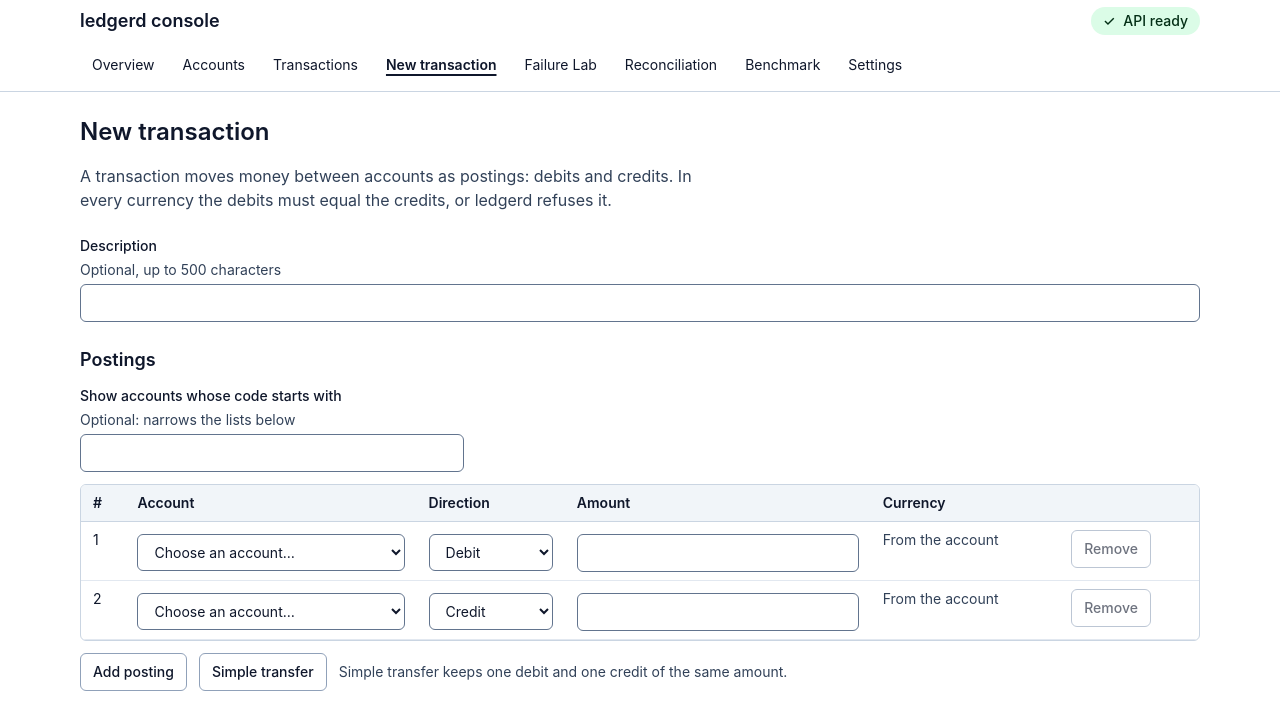
it: sending the same request again (R7.2, R7.3) › says honestly when it was NOT a replay (the key was forgotten), and that money moved again
Check: the heading "New transaction" is shown, box [80, 116, 270, 148]
Select "bank (USD)" in the 1st dropdown named "Account for posting 1" at (271, 552), box [138, 534, 405, 571]
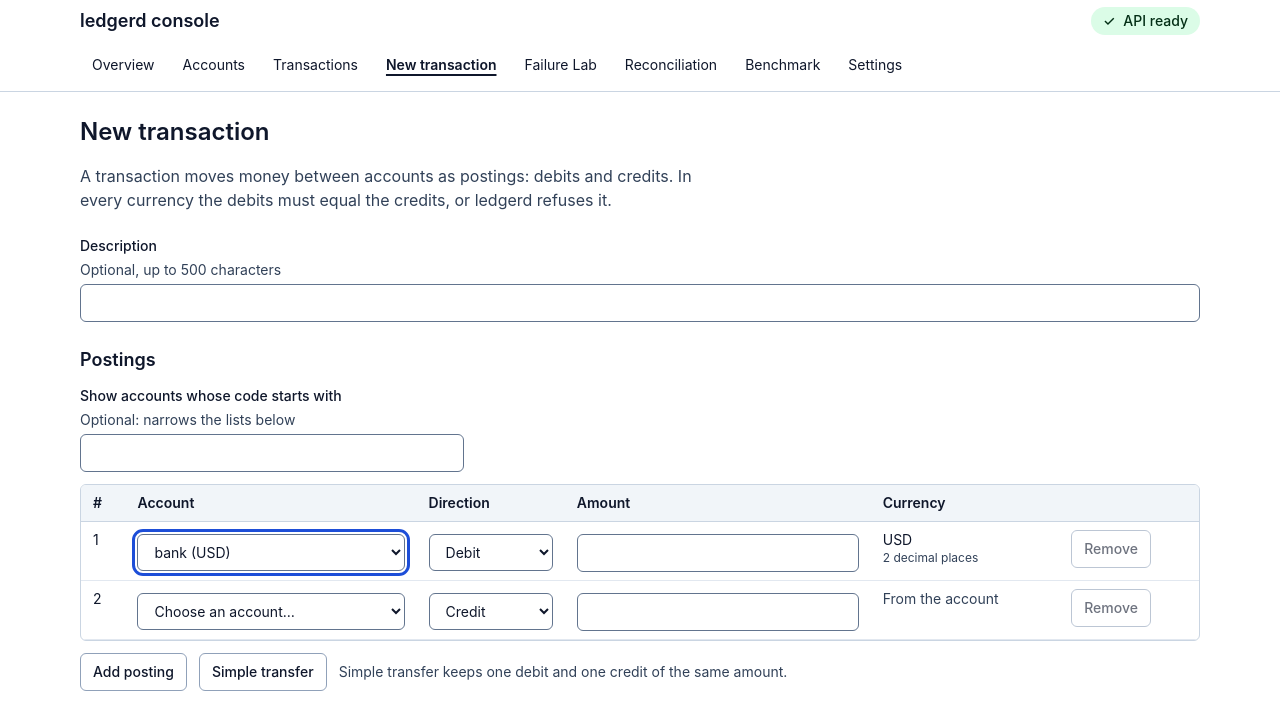
Select "wallet (USD)" in the 3rd dropdown named "Account for posting 2" at (271, 612), box [138, 593, 405, 630]
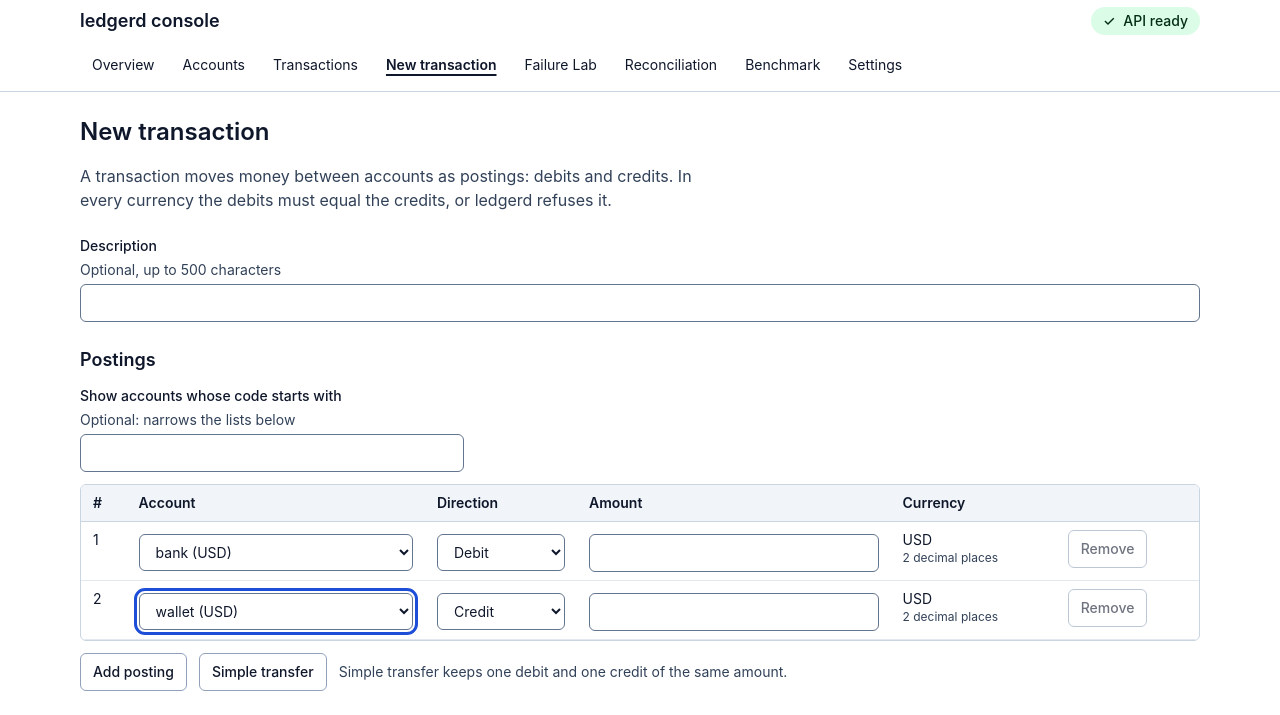
Type "100" into the 3rd field.
click(734, 553); type("100")  # box [589, 534, 879, 572]
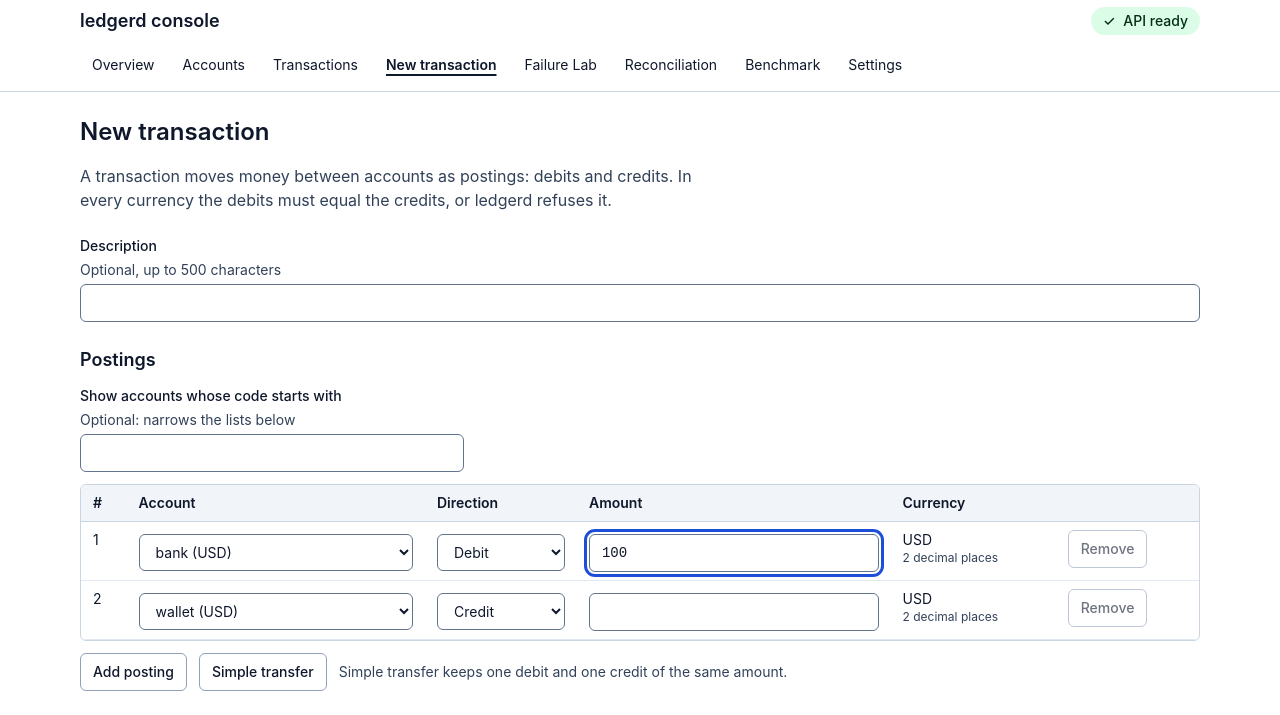
Type "100" into the 4th field.
click(734, 612); type("100")  # box [589, 593, 879, 631]
(page scrolled)
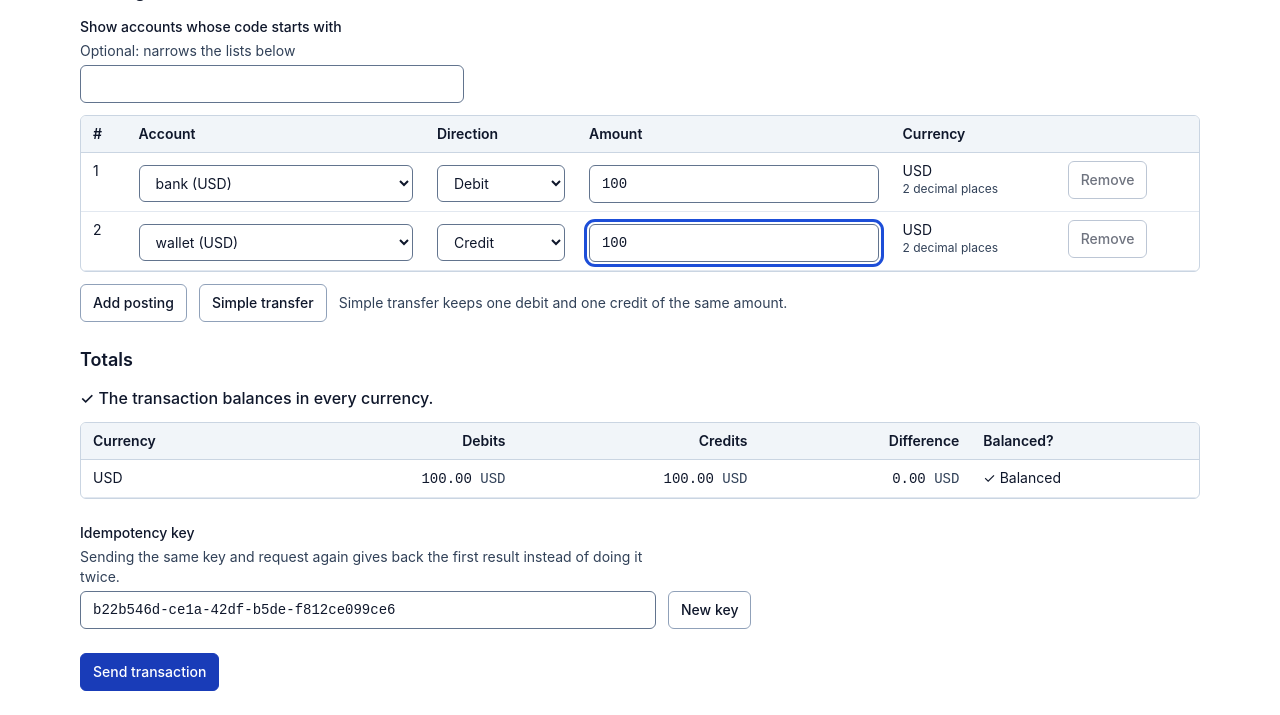
Click the button "Send transaction".
click(150, 672)  # box [80, 653, 219, 691]
(page scrolled)
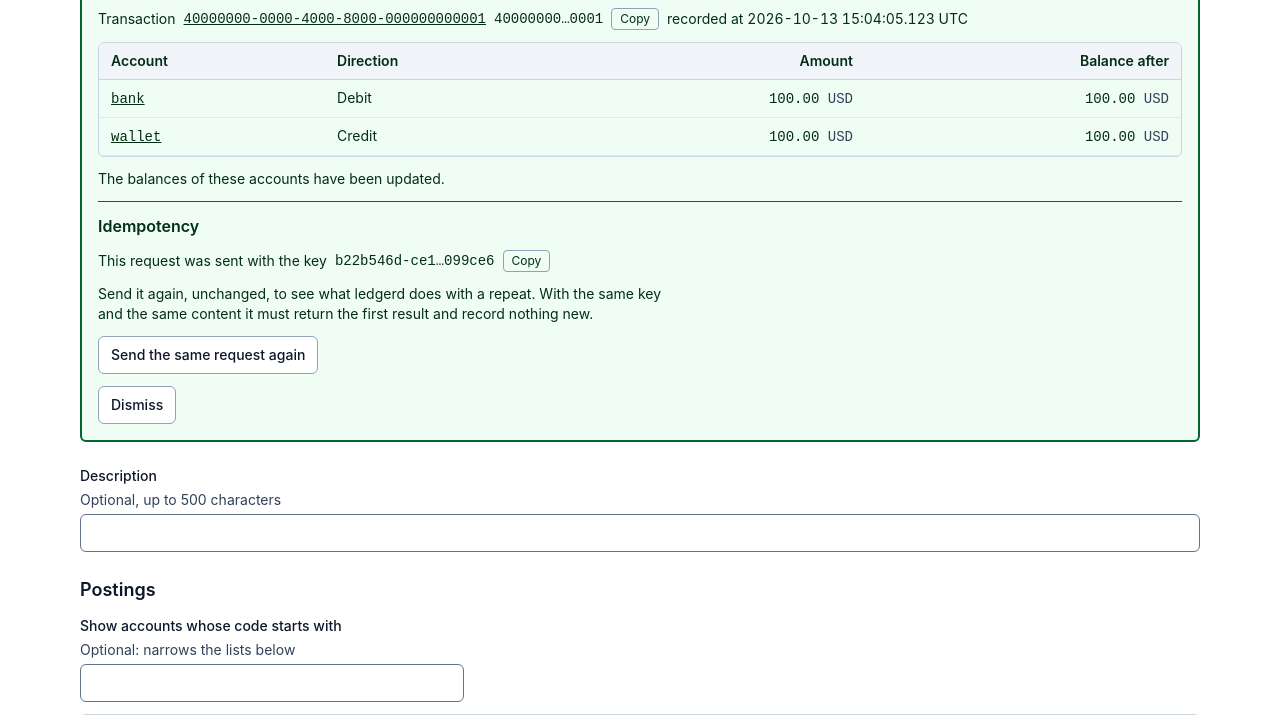
Click the button "Send the same request again".
click(208, 355)  # box [98, 336, 318, 374]
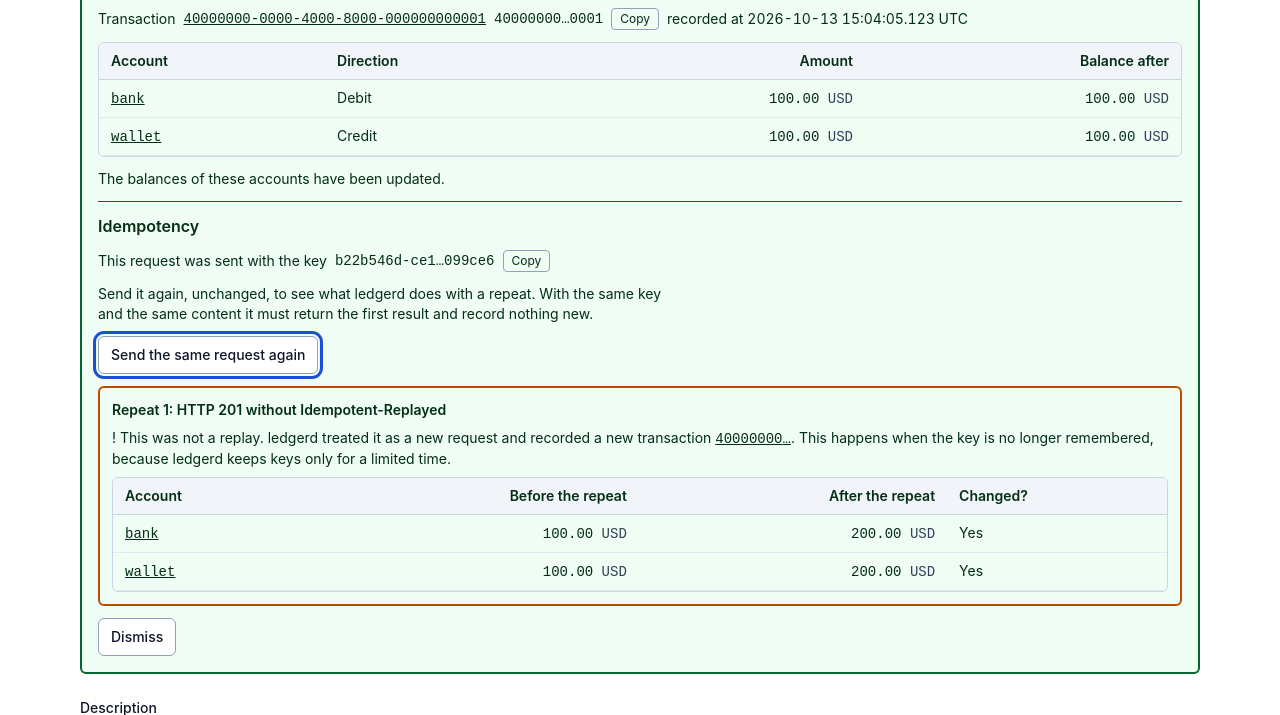
Check: the row "bank 100.00 USD 200.00 USD Yes" is shown, box [113, 515, 1167, 552]
